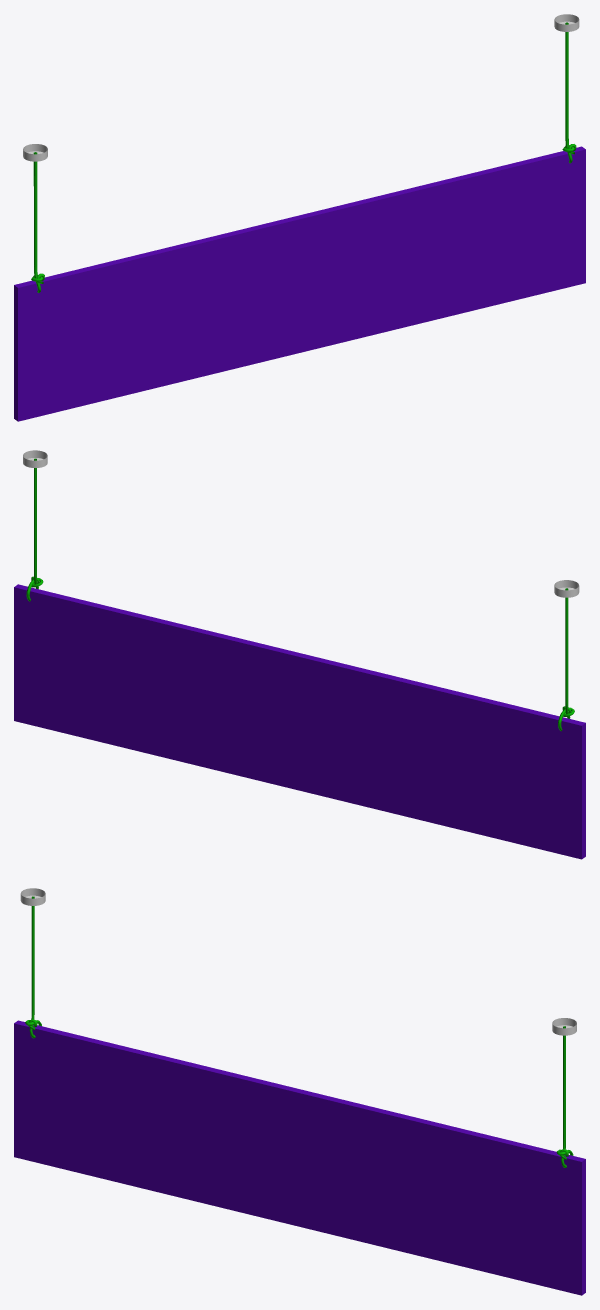
The model's file is ApocalypticPharmacy01_PickUpSign.fbx.
The picture shows the model from 3 angles, top to bottom: view 1: azimuth 30°, elevation 25°; view 2: azimuth 150°, elevation 25°; view 3: azimuth 330°, elevation 25°; orthographic projection.
Parts seen in each view (by area): view 1: ApocalypticPharmacy01_PickUpSign; view 2: ApocalypticPharmacy01_PickUpSign; view 3: ApocalypticPharmacy01_PickUpSign.
Part boxes in pixels (bbox=[...]): ApocalypticPharmacy01_PickUpSign: bbox=[14, 14, 585, 421]; ApocalypticPharmacy01_PickUpSign: bbox=[14, 450, 585, 859]; ApocalypticPharmacy01_PickUpSign: bbox=[14, 888, 585, 1295].
Bounding box in the file's own units: 0.8 × 0.3601 × 0.03.
